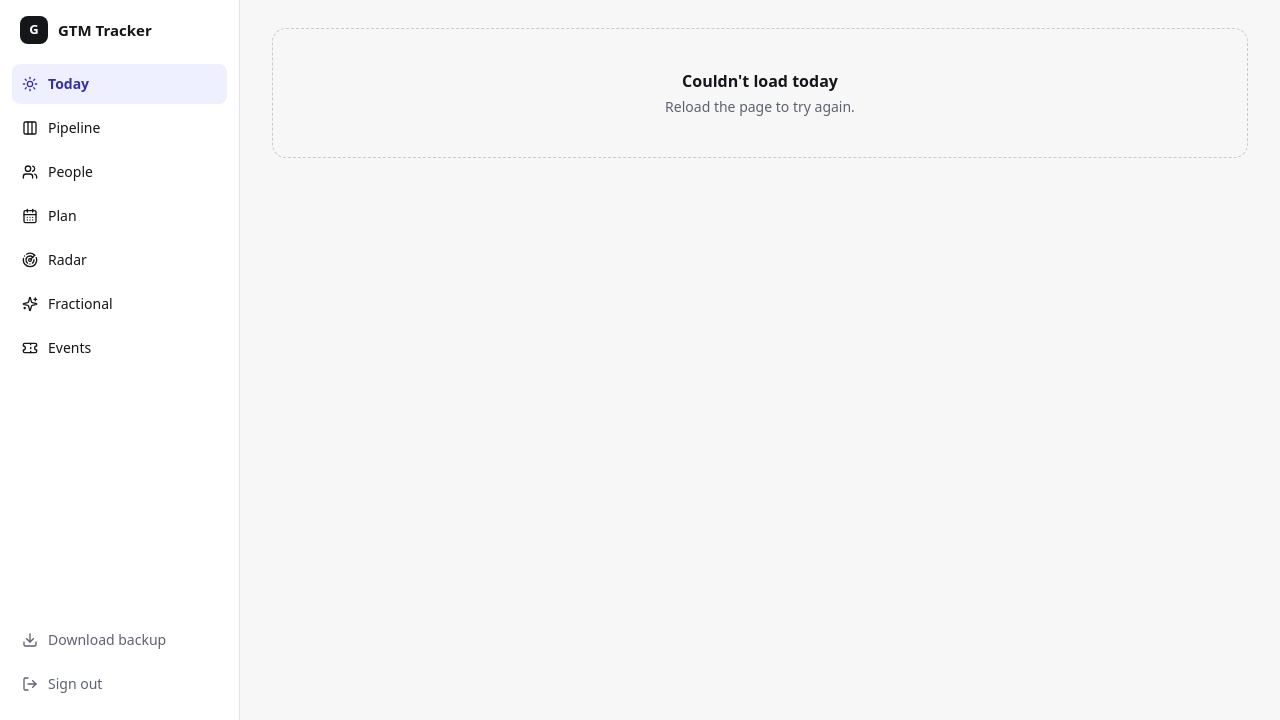
Test: signing in › says when signing out fails
The width and height of the screenshot is (1280, 720).
Click the button "Sign out".
click(120, 684)  # box [12,664,227,704]
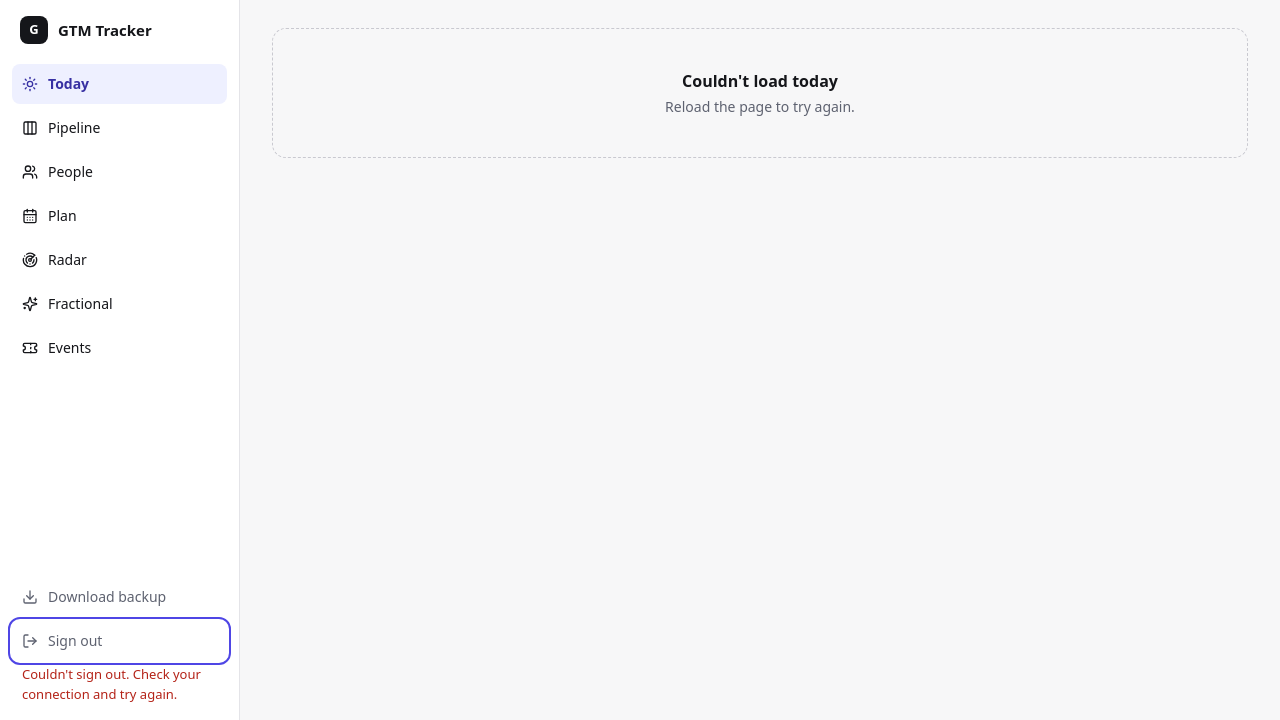
Expected: the message shows "Couldn't sign out", [22,665,201,702]
